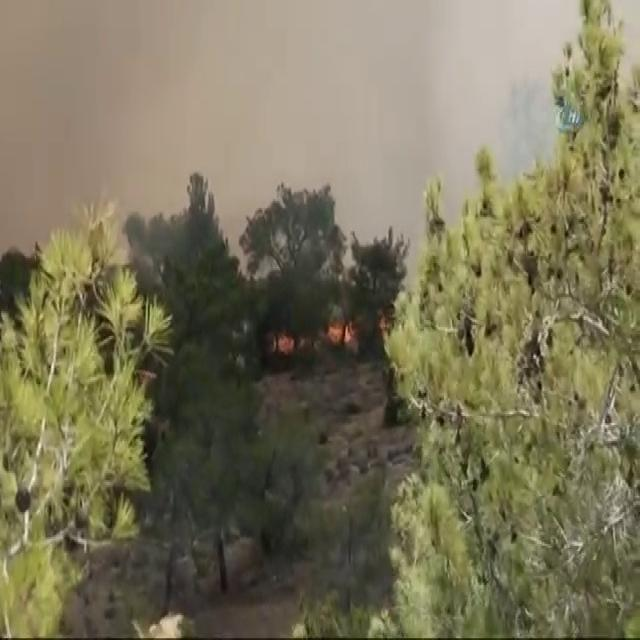Fire: (250, 302, 379, 369)
Smoke: (270, 4, 554, 173), (10, 13, 286, 176)
